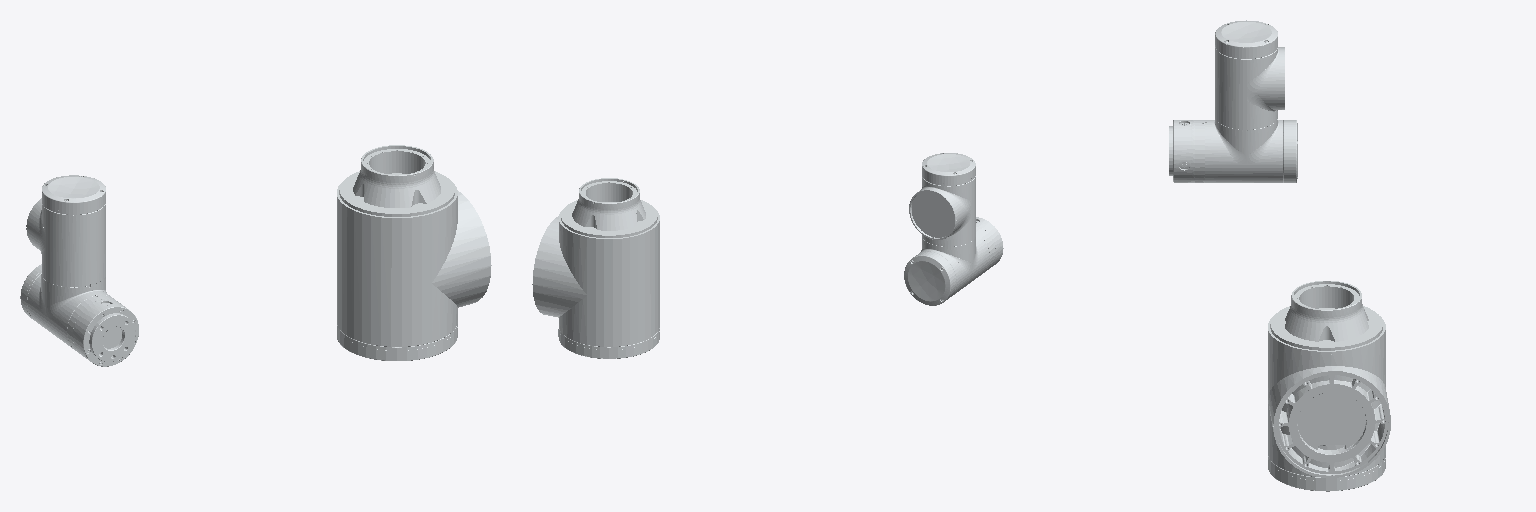
URDF robot description (FR3-V5.0):
<?xml version="1.0" encoding="utf-8" ?>
<!-- This URDF was automatically created by SolidWorks to URDF Exporter! Originally created by [author] ([email redacted]) 
     Commit Version: 1.5.1-0-g916b5db  Build Version: 1.5.7152.31018
     For more information, please see http://wiki.ros.org/sw_urdf_exporter -->
<robot name="FR3-V5.0">
    <link name="world" />
    <joint name="world" type="fixed">
        <parent link="world" />
        <child link="base_link" />
    </joint>
    <link name="base_link">
        
<inertial>
            <origin xyz="-0.0004939 -0.0004509 0.032214" rpy="0 0 0" />
            <mass value="0.77817" />
            <inertia ixx="0.0013699" ixy="1.1455E-05" ixz="-1.0521E-05" iyy="0.0013695" iyz="-9.7516E-06" izz="0.0019676" />
        </inertial>

        <visual>
            <origin xyz="0 0 0" rpy="0 0 0" />
            <geometry>
                <mesh filename="package://frcobot_description/meshes/fr3/visual/base_link.DAE" />
            </geometry>
            <material name="">
                <color rgba="0.89804 0.91765 0.92941 1" />
            </material>
        </visual>
        <collision>
            <origin xyz="0 0 0" rpy="0 0 0" />
            <geometry>
                <mesh filename="package://frcobot_description/meshes/fr3/collision/base_link.STL" />
            </geometry>
        </collision>
    </link>
    <link name="shoulder_Link">
        
<inertial>
            <origin xyz="0.00215579656064623 0.0675269492548249 0.000166380479814213" rpy="0 0 0" />
            <mass value="2.37326151468102" />
            <inertia ixx="0.00464437636424801" ixy="3.37752841443834E-06" ixz="-6.35167995342536E-06" iyy="0.00257740285163467" iyz="2.76302522141466E-07" izz="0.00472586337172682" />
        </inertial>

        <visual>
            <origin xyz="0 0 0" rpy="0 0 0" />
            <geometry>
                <mesh filename="package://frcobot_description/meshes/fr3/visual/shoulder_Link.DAE" />
            </geometry>
            <material name="">
                <color rgba="0.898039215686275 0.917647058823529 0.929411764705882 1" />
            </material>
        </visual>
        <collision>
            <origin xyz="0 0 0" rpy="0 0 0" />
            <geometry>
                <mesh filename="package://frcobot_description/meshes/fr3/collision/shoulder_Link.STL" />
            </geometry>
        </collision>
    </link>
    <joint name="j1" type="revolute">
        <origin xyz="0 0 0.074" rpy="1.5708 0 -1.494083" />
        <!-- <origin
      xyz="0 0 0.074"
      rpy="1.5708 0 0.076717" /> -->
        <parent link="base_link" />
        <child link="shoulder_Link" />
        <axis xyz="0 1 0" />
        <limit lower="-3.0543261" upper="3.0543261" effort="150" velocity="3.15" />
        <calibration rising="0" falling="0" />
        <dynamics damping="0" friction="0" />
        <safety_controller soft_upper_limit="3.0543261" soft_lower_limit="-3.0543261" k_position="100" k_velocity="40" />
    </joint>
    <link name="upperarm_Link">
        
<inertial>
            <origin xyz="0.14052615364316 3.19832122998853E-06 -0.0673220294744213" rpy="0 0 0" />
            <mass value="5.20488445581566" />
            <inertia ixx="0.0100877805389267" ixy="-1.86156773781519E-06" ixz="7.99549951803734E-16" iyy="0.0114295275122961" iyz="-4.02196283458795E-16" izz="0.0071309461346971" />
        </inertial>

        <visual>
            <origin xyz="0 0 0.13" rpy="0 0 0" />
            <geometry>
                <mesh filename="package://frcobot_description/meshes/fr3/visual/upperarm_Link.DAE" />
            </geometry>
            <material name="">
                <color rgba="0.898039215686275 0.917647058823529 0.929411764705882 1" />
            </material>
        </visual>
        <collision>
            <origin xyz="0 0 0" rpy="0 0 0" />
            <geometry>
                <mesh filename="package://frcobot_description/meshes/fr3/collision/upperarm_Link.STL" />
            </geometry>
        </collision>
    </link>
    <joint name="j2" type="revolute">
        <origin xyz="0.048656 0.0652 0.0037401" rpy="3.141593 -1.647517 0" />
        <parent link="shoulder_Link" />
        <child link="upperarm_Link" />
        <axis xyz="0 0 1" />
        <limit lower="-4.6251" upper="1.4835" effort="150" velocity="3.15" />
        <calibration rising="0" falling="0" />
        <dynamics damping="0" friction="0" />
        <safety_controller soft_upper_limit="1.4835" soft_lower_limit="-4.6251" k_position="100" k_velocity="40" />
    </joint>
    <link name="forearm_Link">
        
<inertial>
            <origin xyz="0.192635357876029 0.0487629311118559 -4.94516124512836E-06" rpy="0 0 0" />
            <mass value="2.36119902745376" />
            <inertia ixx="0.0035452659318639" ixy="-7.3938698701374E-05" ixz="7.22720216440109E-07" iyy="0.00303455488056437" iyz="-2.92335000076181E-07" izz="0.00417679573122483" />
        </inertial>

        <visual>
            <origin xyz="0 0.0025 0" rpy="0 0 0" />
            <geometry>
                <mesh filename="package://frcobot_description/meshes/fr3/visual/forearm_Link.DAE" />
            </geometry>
            <material name="">
                <color rgba="0.898039215686275 0.917647058823529 0.929411764705882 1" />
            </material>
        </visual>
        <collision>
            <origin xyz="0 0 0" rpy="0 0 0" />
            <geometry>
                <mesh filename="package://frcobot_description/meshes/fr3/collision/forearm_Link.STL" />
            </geometry>
        </collision>
    </link>
    <joint name="j3" type="revolute">
        <origin xyz="0.28 0 0" rpy="1.5708 0 0" />
        <parent link="upperarm_Link" />
        <child link="forearm_Link" />
        <axis xyz="0 1 0" />
        <limit lower="-2.8274" upper="2.8274" effort="150" velocity="3.15" />
        <calibration rising="0" falling="0" />
        <dynamics damping="0" friction="0" />
        <safety_controller soft_upper_limit="2.8274" soft_lower_limit="-2.8274" k_position="100" k_velocity="40" />
    </joint>
    <link name="wrist1_Link">
        
<inertial>
            <origin xyz="-0.0454134679338634 0.00172297187615156 4.23850043613353E-07" rpy="0 0 0" />
            <mass value="1.74643097684016" />
            <inertia ixx="0.00262730745088668" ixy="1.0106539916888E-05" ixz="-3.62880005254338E-08" iyy="0.00158503705125863" iyz="1.43437921244792E-08" izz="0.00273363370089196" />
        </inertial>

        <visual>
            <origin xyz="0.106 0 0" rpy="0 0 0" />
            <geometry>
                <mesh filename="package://frcobot_description/meshes/fr3/visual/wrist1_Link.DAE" />
            </geometry>
            <material name="">
                <color rgba="0.898039215686275 0.917647058823529 0.929411764705882 1" />
            </material>
        </visual>
        <collision>
            <origin xyz="0 0 0" rpy="0 0 0" />
            <geometry>
                <mesh filename="package://frcobot_description/meshes/fr3/collision/wrist1_Link.STL" />
            </geometry>
        </collision>
    </link>
    <joint name="j4" type="revolute">
        <origin xyz="0.24001 -0.004399 0" rpy="1.5708 0 1.5708" />
        <parent link="forearm_Link" />
        <child link="wrist1_Link" />
        <axis xyz="1 0 0" />
        <limit lower="-4.6251" upper="1.4835" effort="28" velocity="3.2" />
        <calibration rising="0" falling="0" />
        <dynamics damping="0" friction="0" />
        <safety_controller soft_upper_limit="1.4835" soft_lower_limit="-4.6251" k_position="100" k_velocity="40" />
    </joint>
    <link name="wrist2_Link">
        
<inertial>
            <origin xyz="-0.0454134586122821 0.00172297186091633 4.35135087973705E-07" rpy="0 0 0" />
            <mass value="1.74643097580082" />
            <inertia ixx="0.00262730745010995" ixy="1.01065424165879E-05" ixz="-3.62775265607763E-08" iyy="0.00158503704914344" iyz="1.44762939343378E-08" izz="0.00273363369934455" />
        </inertial>

        <visual>
            <origin xyz="0 0 0" rpy="0 0 0" />
            <geometry>
                <mesh filename="package://frcobot_description/meshes/fr3/visual/wrist2_Link.DAE" />
            </geometry>
            <material name="">
                <color rgba="0.898039215686275 0.917647058823529 0.929411764705882 1" />
            </material>
        </visual>
        <collision>
            <origin xyz="0 0 0" rpy="0 0 0" />
            <geometry>
                <mesh filename="package://frcobot_description/meshes/fr3/collision/wrist2_Link.STL" />
            </geometry>
        </collision>
    </link>
    <joint name="j5" type="revolute">
        <origin xyz="0.057 -0.15 0" rpy="3.141593 0 -1.5708" />
        <parent link="wrist1_Link" />
        <child link="wrist2_Link" />
        <axis xyz="1 0 0" />
        <limit lower="-3.0543" upper="3.0543" effort="28" velocity="3.2" />
        <calibration rising="0" falling="0" />
        <dynamics damping="0" friction="0" />
        <safety_controller soft_upper_limit="3.0543" soft_lower_limit="-3.0543" k_position="100" k_velocity="40" />
    </joint>
    <link name="wrist3_Link">
        
<inertial>
            <origin xyz="-2.38767308875232E-05 0.0229240957730459 7.5877926720147E-05" rpy="0 0 0" />
            <mass value="1.05057803931133" />
            <inertia ixx="0.000555936779063335" ixy="5.09768154107326E-07" ixz="1.02477772503103E-06" iyy="0.000831680492730721" iyz="2.52800063915235E-08" izz="0.000554791835939161" />
        </inertial>

        <visual>
            <origin xyz="0 0 0" rpy="0 0 0" />
            <geometry>
                <mesh filename="package://frcobot_description/meshes/fr3/visual/wrist3_Link.DAE" />
            </geometry>
            <material name="">
                <color rgba="0.898039215686275 0.917647058823529 0.929411764705882 1" />
            </material>
        </visual>
        <collision>
            <origin xyz="0 0 0" rpy="0 0 0" />
            <geometry>
                <mesh filename="package://frcobot_description/meshes/fr3/collision/wrist3_Link.STL" />
            </geometry>
        </collision>
    </link>
    <joint name="j6" type="revolute">
        <origin xyz="-0.048801 -0.0532 0" rpy="3.1416 -0.5 0" />
        <parent link="wrist2_Link" />
        <child link="wrist3_Link" />
        <axis xyz="0 1 0" />
        <limit lower="-3.0543" upper="3.0543" effort="28" velocity="3.2" />
        <calibration rising="0" falling="0" />
        <dynamics damping="0" friction="0" />
        <safety_controller soft_upper_limit="3.0543" soft_lower_limit="-3.0543" k_position="100" k_velocity="40" />
    </joint>
    
<transmission name="trans_j1">
        <type>transmission_interface/SimpleTransmission</type>
        <joint name="j1">
            <hardwareInterface>hardware_interface/PositionJointInterface</hardwareInterface>
        </joint>
        <actuator name="j1_motor">
            <hardwareInterface>hardware_interface/PositionJointInterface</hardwareInterface>
            <mechanicalReduction>1</mechanicalReduction>
        </actuator>
    </transmission>
    <transmission name="trans_j2">
        <type>transmission_interface/SimpleTransmission</type>
        <joint name="j2">
            <hardwareInterface>hardware_interface/PositionJointInterface</hardwareInterface>
        </joint>
        <actuator name="j2_motor">
            <hardwareInterface>hardware_interface/PositionJointInterface</hardwareInterface>
            <mechanicalReduction>1</mechanicalReduction>
        </actuator>
    </transmission>
    <transmission name="trans_j3">
        <type>transmission_interface/SimpleTransmission</type>
        <joint name="j3">
            <hardwareInterface>hardware_interface/PositionJointInterface</hardwareInterface>
        </joint>
        <actuator name="j3_motor">
            <hardwareInterface>hardware_interface/PositionJointInterface</hardwareInterface>
            <mechanicalReduction>1</mechanicalReduction>
        </actuator>
    </transmission>
    <transmission name="trans_j4">
        <type>transmission_interface/SimpleTransmission</type>
        <joint name="j4">
            <hardwareInterface>hardware_interface/PositionJointInterface</hardwareInterface>
        </joint>
        <actuator name="j4_motor">
            <hardwareInterface>hardware_interface/PositionJointInterface</hardwareInterface>
            <mechanicalReduction>1</mechanicalReduction>
        </actuator>
    </transmission>
    <transmission name="trans_j5">
        <type>transmission_interface/SimpleTransmission</type>
        <joint name="j5">
            <hardwareInterface>hardware_interface/PositionJointInterface</hardwareInterface>
        </joint>
        <actuator name="j5_motor">
            <hardwareInterface>hardware_interface/PositionJointInterface</hardwareInterface>
            <mechanicalReduction>1</mechanicalReduction>
        </actuator>
    </transmission>
    <transmission name="trans_j6">
        <type>transmission_interface/SimpleTransmission</type>
        <joint name="j6">
            <hardwareInterface>hardware_interface/PositionJointInterface</hardwareInterface>
        </joint>
        <actuator name="j6_motor">
            <hardwareInterface>hardware_interface/PositionJointInterface</hardwareInterface>
            <mechanicalReduction>1</mechanicalReduction>
        </actuator>
    </transmission>
    <gazebo>
        <plugin name="gazebo_ros_control" filename="libgazebo_ros_control.so">
            <robotNamespace>/</robotNamespace>
        </plugin>
    </gazebo>
</robot>

--- Facts derived from the render (not from the file) ---
The picture shows the robot from 3 angles, left to right: view 1: azimuth 30°, elevation 25°; view 2: azimuth 150°, elevation 25°; view 3: azimuth 270°, elevation 25°; orthographic projection.
Robot: FR3-V5.0 — 8 links, 7 joints (6 revolute, 1 fixed); root link world; default pose: every joint at zero.
Visible links, largest first — view 1: shoulder_Link, wrist1_Link, base_link, wrist3_Link, wrist2_Link; view 2: shoulder_Link, wrist1_Link, wrist2_Link, base_link, wrist3_Link; view 3: shoulder_Link, wrist1_Link, wrist2_Link, base_link, wrist3_Link.
Boxes of the visible links, left/top/right/bottom form: shoulder_Link: left=337, top=171, right=491, bottom=360; wrist1_Link: left=26, top=175, right=105, bottom=287; base_link: left=353, top=145, right=440, bottom=207; wrist3_Link: left=67, top=295, right=138, bottom=366; wrist2_Link: left=20, top=264, right=110, bottom=348; shoulder_Link: left=532, top=200, right=659, bottom=358; wrist1_Link: left=909, top=153, right=975, bottom=246; wrist2_Link: left=904, top=232, right=989, bottom=305; base_link: left=572, top=178, right=645, bottom=230; wrist3_Link: left=976, top=217, right=1003, bottom=272; shoulder_Link: left=1268, top=306, right=1390, bottom=491; wrist1_Link: left=1215, top=20, right=1284, bottom=129; wrist2_Link: left=1205, top=118, right=1297, bottom=182; base_link: left=1285, top=281, right=1368, bottom=341; wrist3_Link: left=1169, top=120, right=1204, bottom=182.
Bounding box of the posed robot: 0.6553 × 0.2821 × 0.3667 m (x, y, z).
5 mesh visuals loaded from 7 distinct referenced files (5 Collada DAE); not drawn: 2 (reference not matched to a file when rendering).